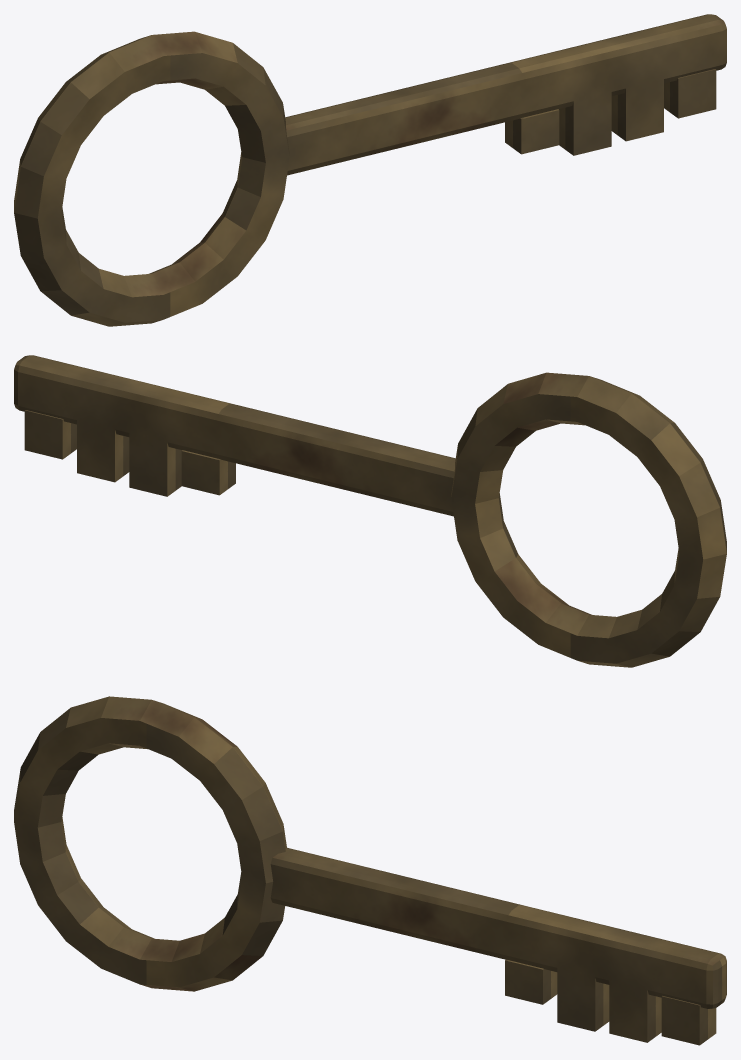
Rendered from G03_key_v1_brass.glb.
The picture shows the model from 3 angles, top to bottom: view 1: azimuth 30°, elevation 25°; view 2: azimuth 150°, elevation 25°; view 3: azimuth 330°, elevation 25°; orthographic projection.
Parts seen in each view (by area): view 1: G03_key_v1_brass; view 2: G03_key_v1_brass; view 3: G03_key_v1_brass.
Part boxes in pixels (box(x1,y1,x2,y2)): G03_key_v1_brass: box(14, 14, 726, 326); G03_key_v1_brass: box(14, 355, 726, 667); G03_key_v1_brass: box(14, 696, 726, 1045).
Size of the model in its own units: 0.1 by 0.0389 by 0.00581.
1 material, 1 textured.
